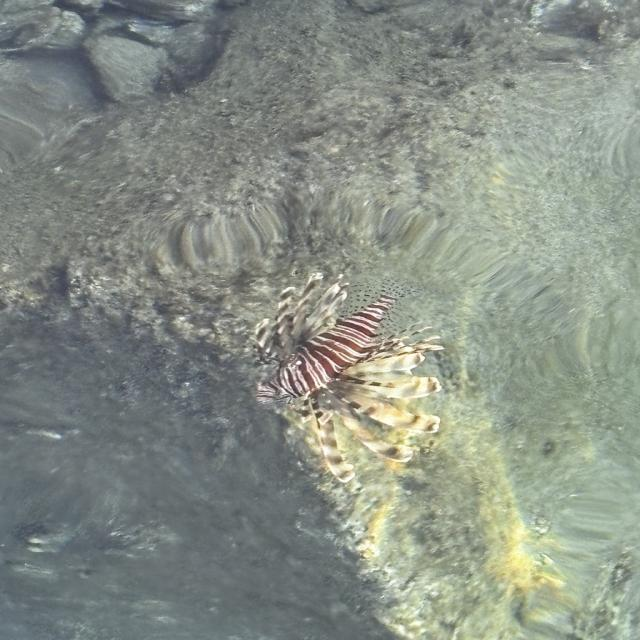Aslan Baligi: (247, 269, 446, 484)
